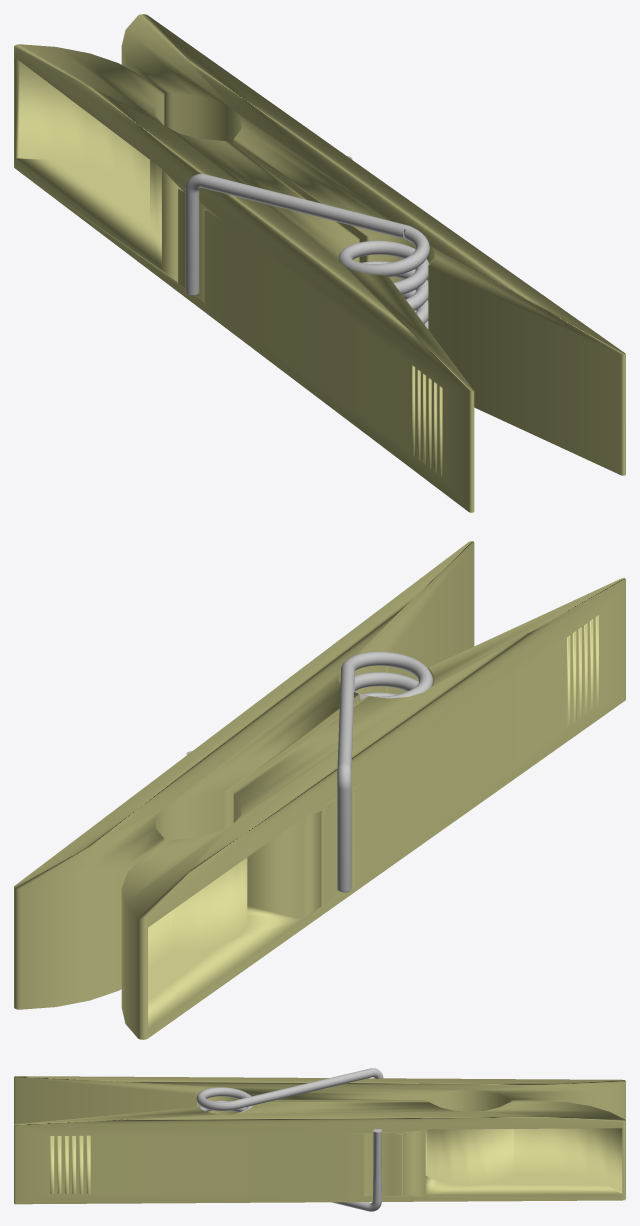
The model's file is clothespin.fbx.
The picture shows the model from 3 angles, top to bottom: view 1: azimuth 30°, elevation 25°; view 2: azimuth 150°, elevation 25°; view 3: azimuth 270°, elevation 25°; orthographic projection. The views are drawn at different scales.
Parts seen in each view (by area): view 1: clothespin:3d_pinza, clothespin:objobject2; view 2: clothespin:3d_pinza, clothespin:objobject2; view 3: clothespin:3d_pinza, clothespin:objobject2.
Boxes of the visible parts, x1,y1,x2,y2 form: clothespin:3d_pinza: [14, 14, 625, 512]; clothespin:objobject2: [185, 156, 429, 328]; clothespin:3d_pinza: [14, 541, 625, 1039]; clothespin:objobject2: [186, 651, 432, 892]; clothespin:3d_pinza: [14, 1076, 625, 1204]; clothespin:objobject2: [196, 1068, 383, 1211].
Bounding box in the file's own units: 1.35 × 1.18 × 6.72.
